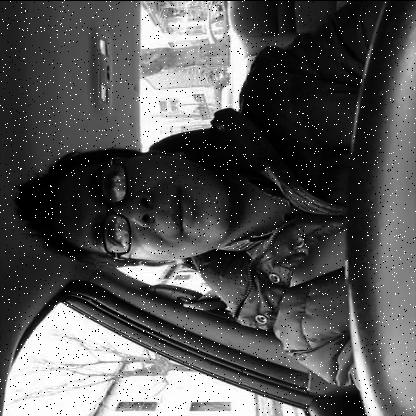seatbelt: (7, 82, 343, 312)
